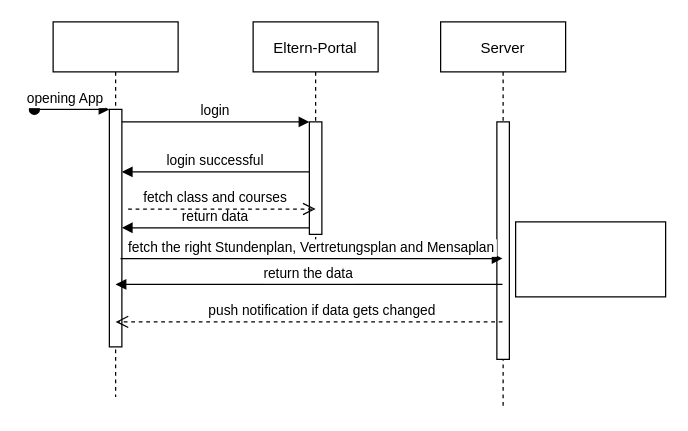
This 688x431 diagram has some shape labels left out. The shapes that lost their labels are listed below. From the top down, each one's centre as x and y in pixels, then its label:
[115,209]: App
[590,259]: webserver with http authentication
